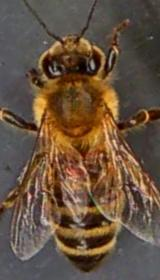varroa_mite: (60, 161, 88, 178)
